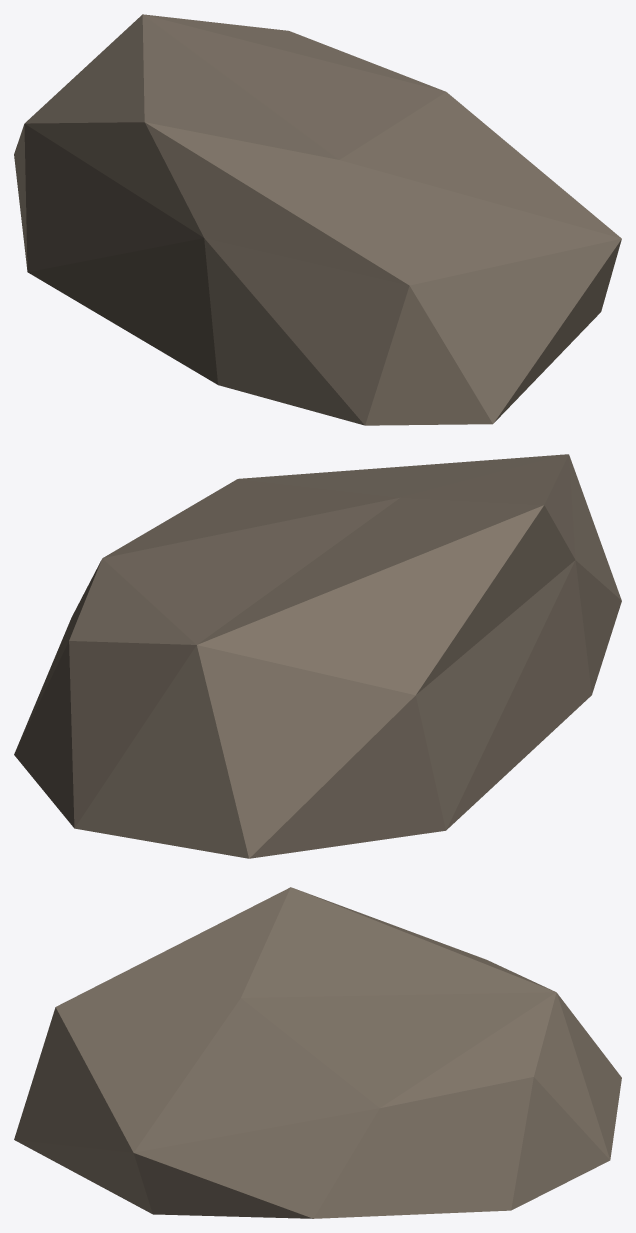
File: Stone 3.glb
3 views of the same model, one above another, from view 1: azimuth 30°, elevation 25°; view 2: azimuth 150°, elevation 25°; view 3: azimuth 270°, elevation 25° (orthographic). The views are drawn at different scales.
Parts seen in each view (by area): view 1: Stone 3; view 2: Stone 3; view 3: Stone 3.
Part boxes in pixels (<box>): Stone 3: <box>14,14,621,425</box>; Stone 3: <box>14,454,621,858</box>; Stone 3: <box>14,887,621,1218</box>.
Size of what is drawn, in the model's own units: 3.1 by 1.51 by 4.56.
1 material, 1 textured.
